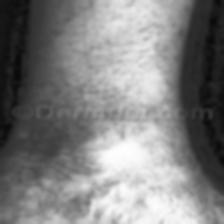Non-Cancerous Skin Condition: (32, 138, 192, 224), (53, 0, 161, 86)
